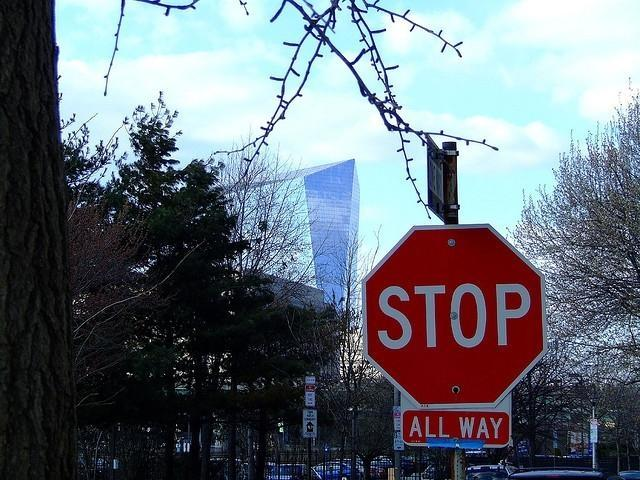car: (313, 462, 361, 480), (371, 456, 393, 467)
